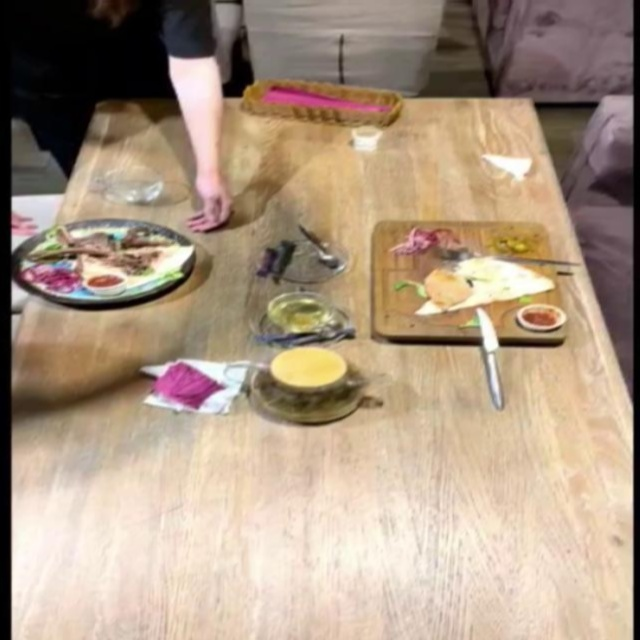meat: (373, 221, 570, 343), (0, 206, 178, 318)
tea: (208, 323, 405, 418)
